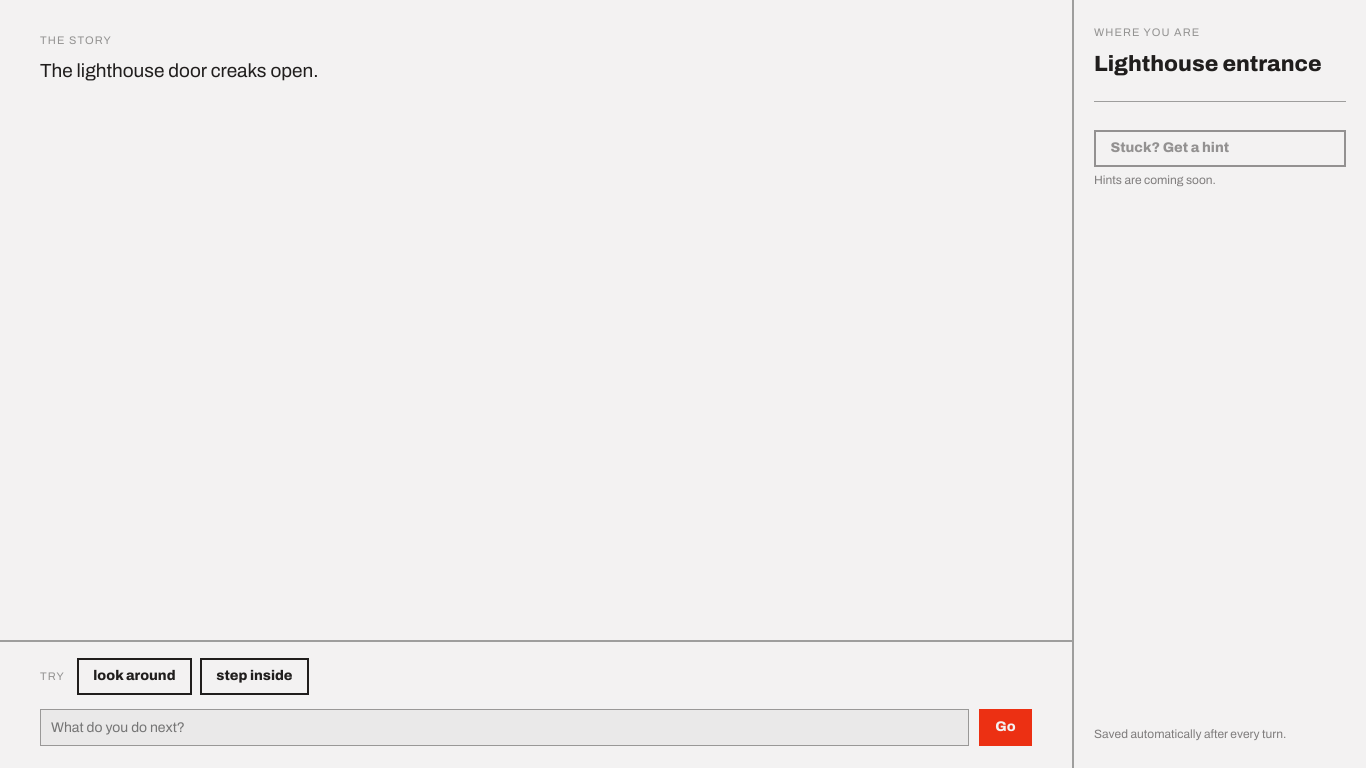
Scenario: PlayPage (008-core-gameplay-done) › gates input and shows the ending when the session concludes
In the field labelled "What do you do next?": (504, 728) 40,709 -> 969,746, type "escape"
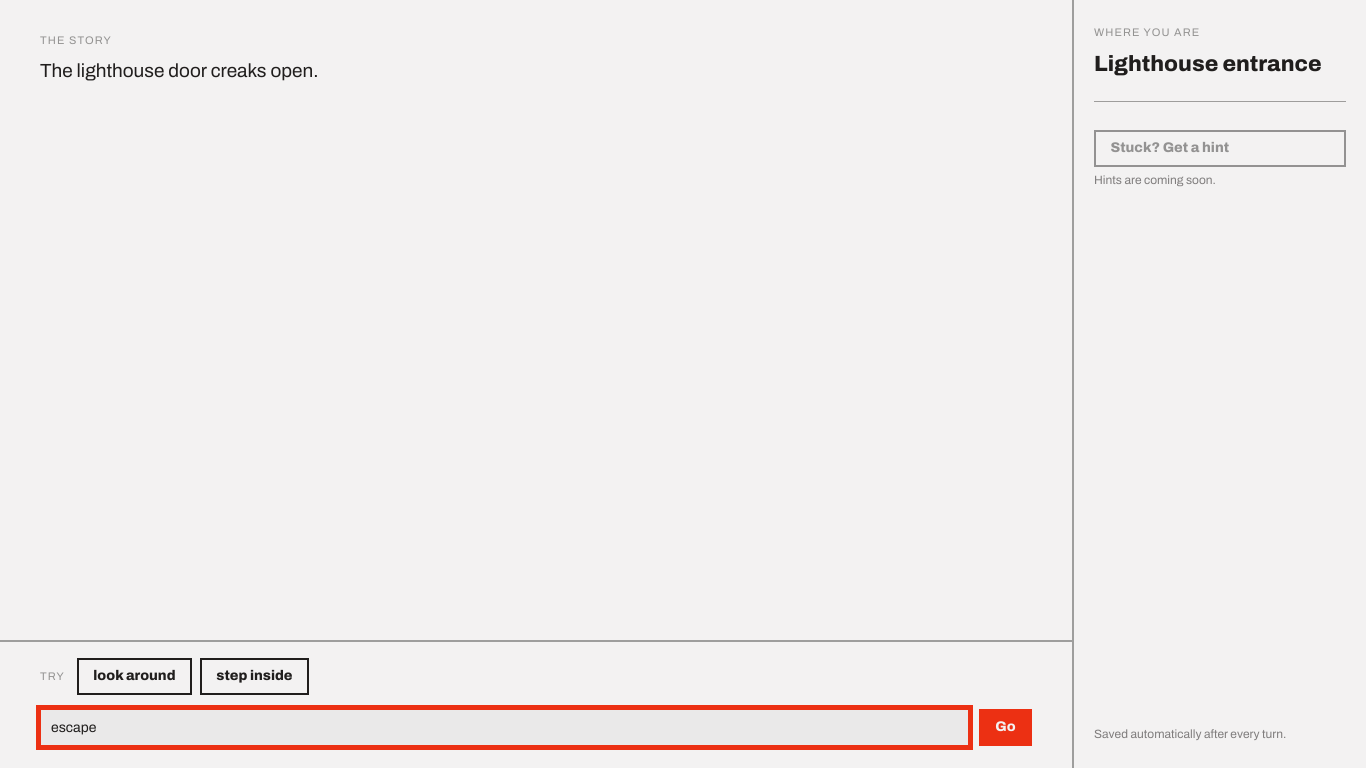
Click the button "Go": (1005, 728) 979,709 -> 1032,746
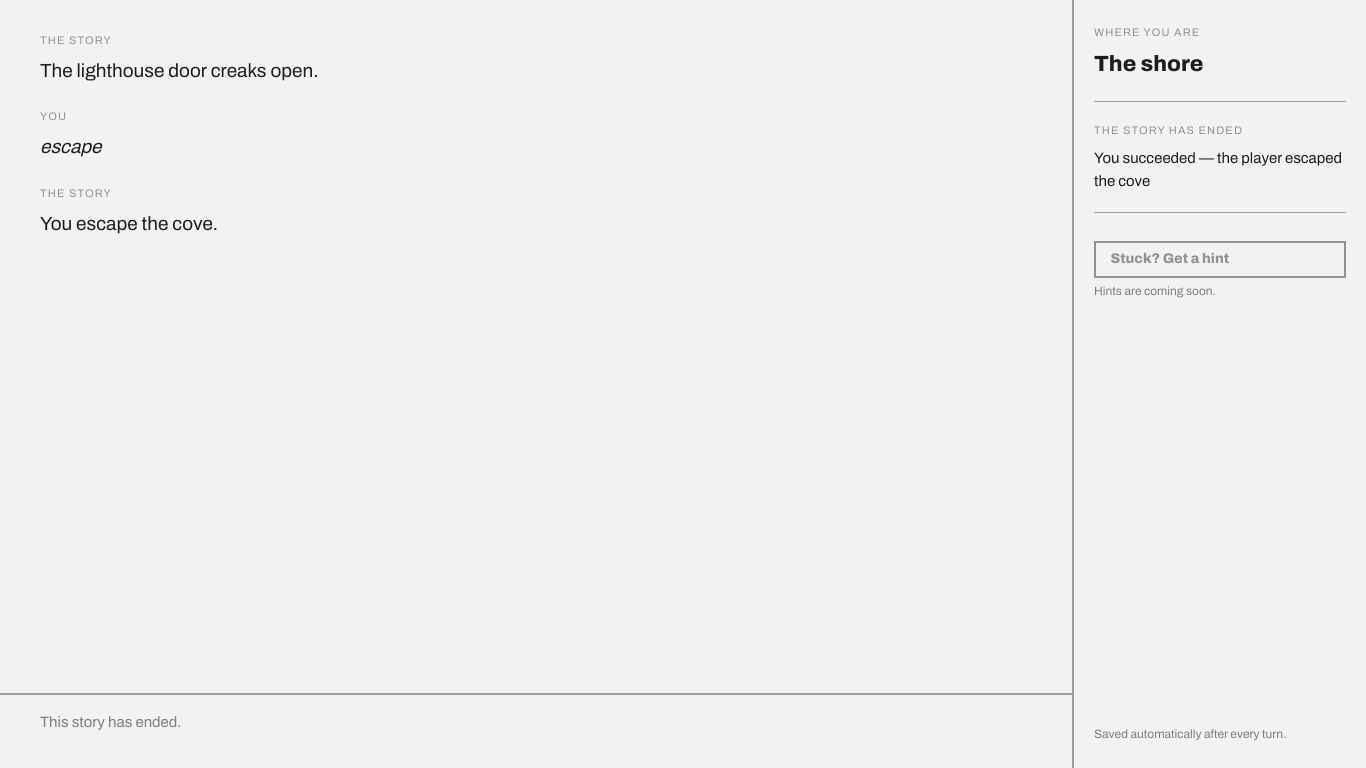
Expected: the field labelled "what do you do next" is not shown
Result: the text "This story has ended." is shown at 40,714 -> 182,730
